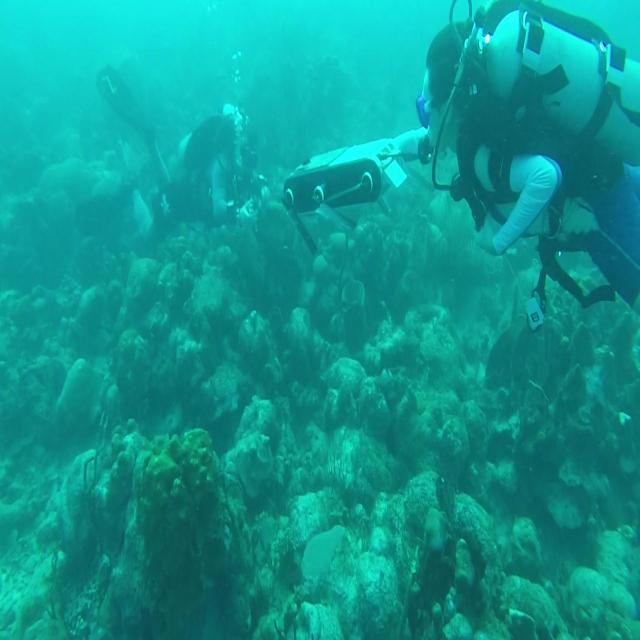human: (378, 1, 639, 326), (95, 58, 268, 232)
